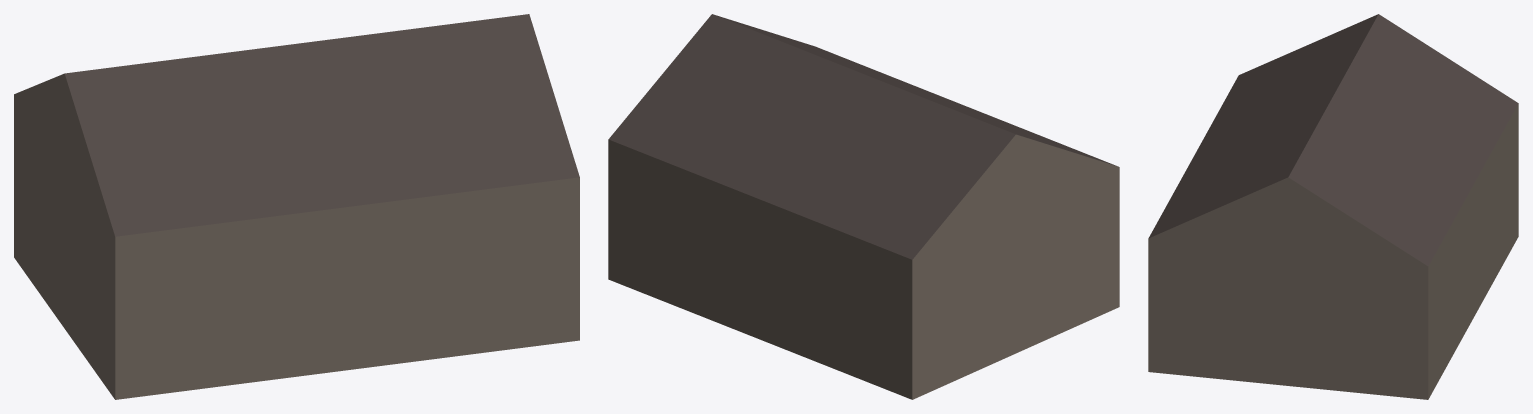
3 renders of one model, left to right at view 1: azimuth 30°, elevation 25°; view 2: azimuth 150°, elevation 25°; view 3: azimuth 270°, elevation 25°, orthographic. The views are drawn at different scales.
Visible parts, largest first — view 1: HP-w859082494; view 2: HP-w859082494; view 3: HP-w859082494.
Boxes of the visible parts, x1,y1,x2,y2 form: HP-w859082494: (14,14,579,399); HP-w859082494: (608,14,1119,399); HP-w859082494: (1148,14,1518,399).
Size of the model in its own units: 18.45 by 9.38 by 15.09.
